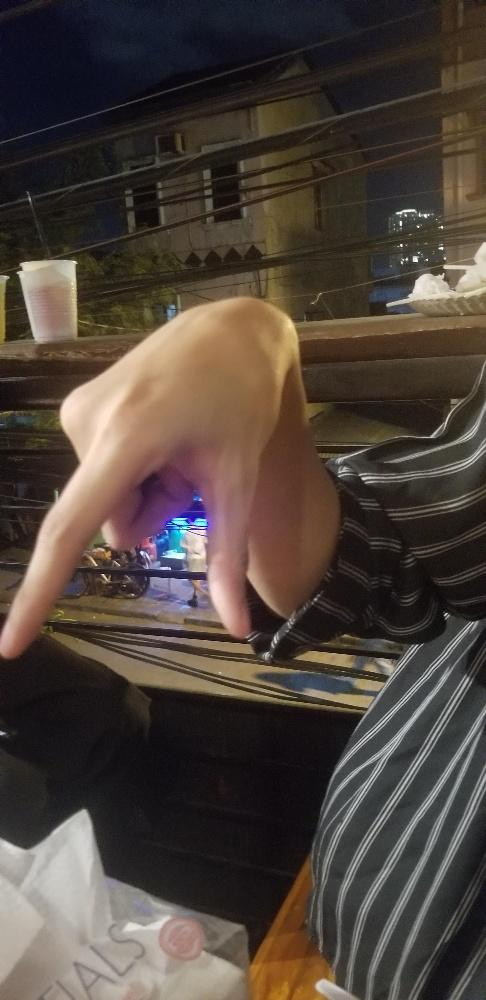q: (0, 294, 304, 663)
